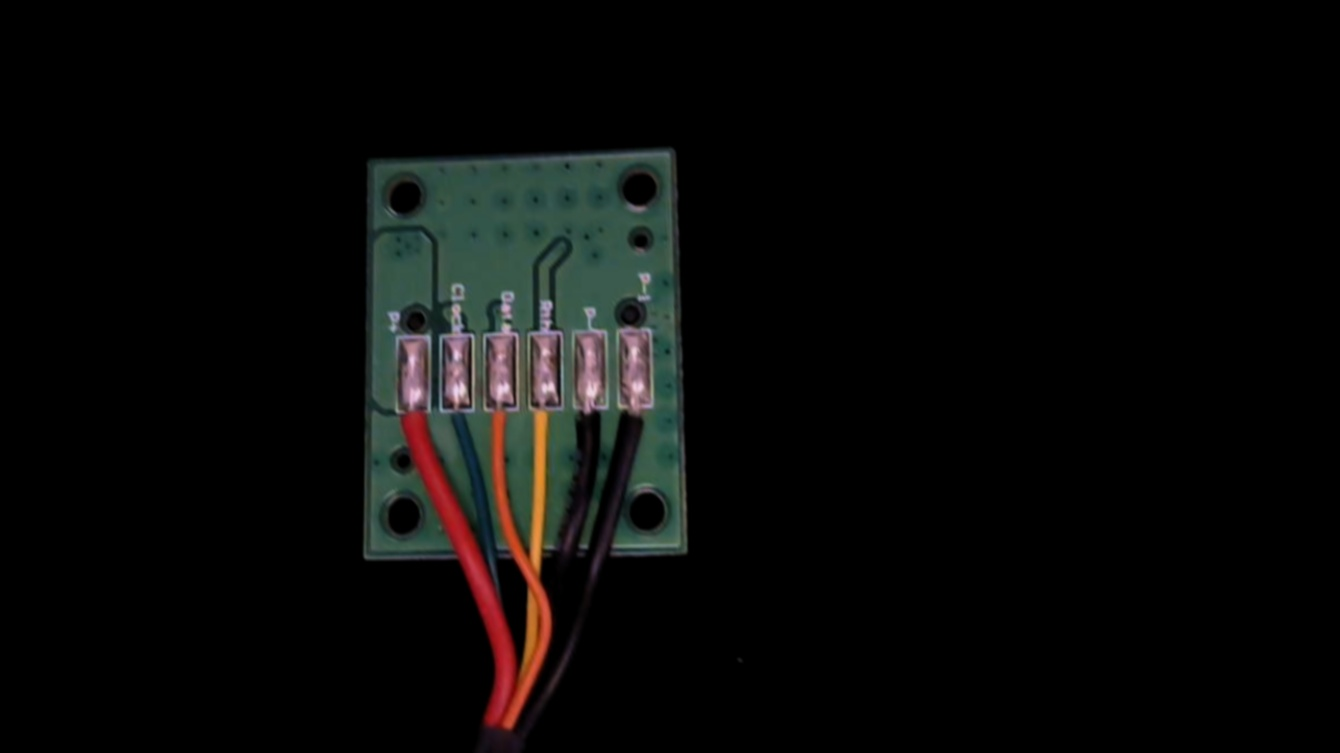Black: (568, 389, 608, 480)
Black1: (615, 387, 655, 471)
Green: (439, 387, 478, 474)
Orange: (484, 388, 521, 477)
Red: (392, 394, 431, 480)
Yellow: (526, 387, 566, 479)
